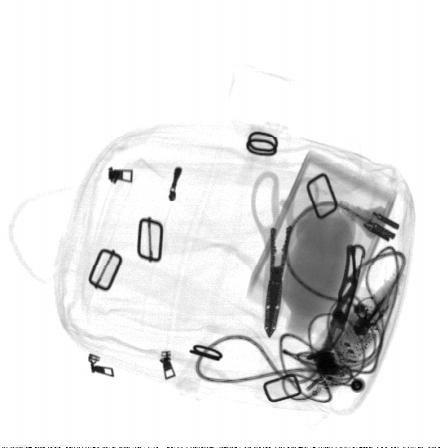Knife: (320, 243, 365, 372)
Scissors: (251, 171, 320, 342)
